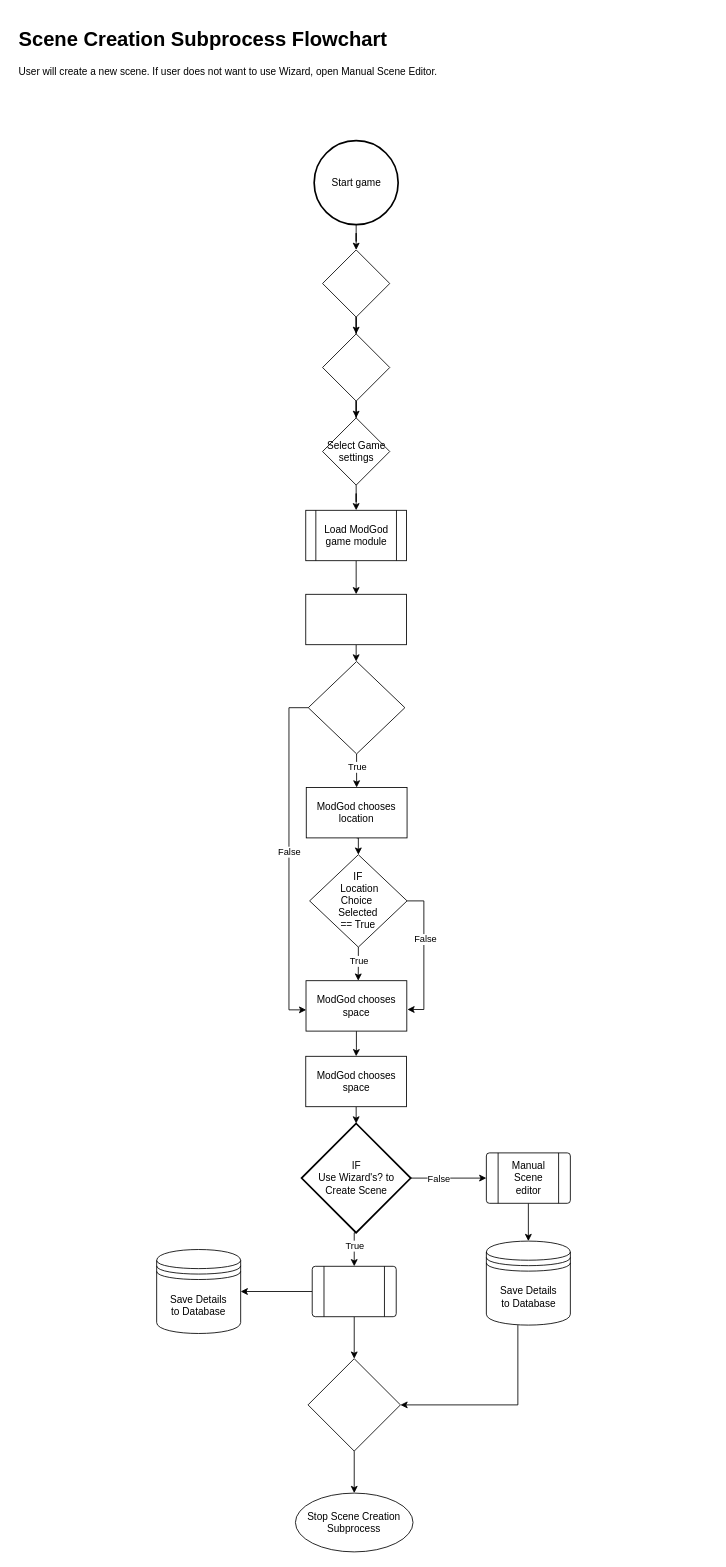
The diagram is 726 pixels wide and 1567 high, and some of its shapes have lost their labels. The shapes that lost their labels are listed below. From the top down, each one's centre as x and y in pixels, then its label:
[356,283]: Select genre
[356,367]: Select campaign
[356,619]: ModGod chooses region
[356,707]: IF Region Choice Selected == True
[353,1291]: Scene Space/Room editor
[353,1404]: Save Changes and Exit
